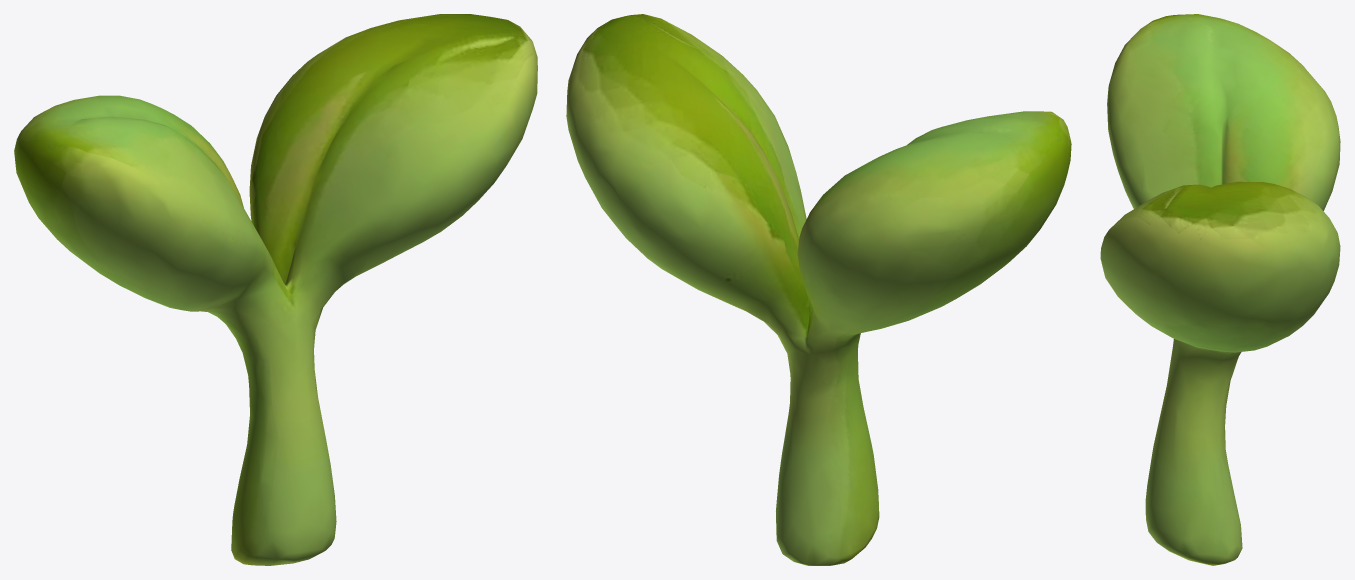
Rendered from sprout.glb.
3 views of the same model, side by side, from view 1: azimuth 30°, elevation 25°; view 2: azimuth 150°, elevation 25°; view 3: azimuth 270°, elevation 25° (orthographic). The views are drawn at different scales.
Parts seen in each view (by area): view 1: textured_mesh.obj; view 2: textured_mesh.obj; view 3: textured_mesh.obj.
Boxes of the visible parts, <box> form: textured_mesh.obj: <box>14,14,537,565</box>; textured_mesh.obj: <box>566,14,1071,565</box>; textured_mesh.obj: <box>1100,14,1340,565</box>.
Size of what is drawn, in the model's own units: 0.4711 by 0.45 by 0.2209.
1 material, 1 textured.
